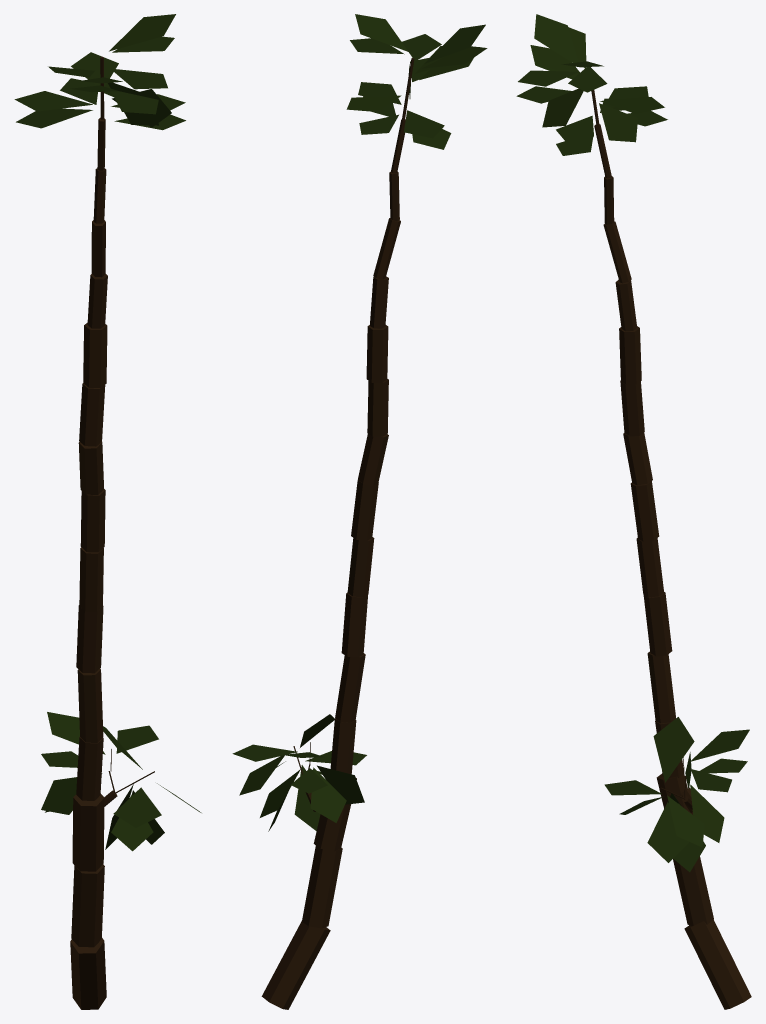
File: tree_240.obj
The picture shows the model from 3 angles, left to right: view 1: azimuth 30°, elevation 25°; view 2: azimuth 150°, elevation 25°; view 3: azimuth 270°, elevation 25°; orthographic projection. The views are drawn at different scales.
Parts seen in each view (by area): view 1: TrunkAndBranches, Leaves; view 2: TrunkAndBranches, Leaves; view 3: TrunkAndBranches, Leaves.
Boxes of the visible parts, x1,y1,x2,y2 form: TrunkAndBranches: [70, 56, 154, 1009]; Leaves: [14, 14, 201, 851]; TrunkAndBranches: [261, 58, 414, 1009]; Leaves: [232, 14, 487, 831]; TrunkAndBranches: [590, 67, 751, 1009]; Leaves: [516, 14, 749, 872].
Bounding box in the file's own units: 0.9012 × 4.29 × 0.9734.
